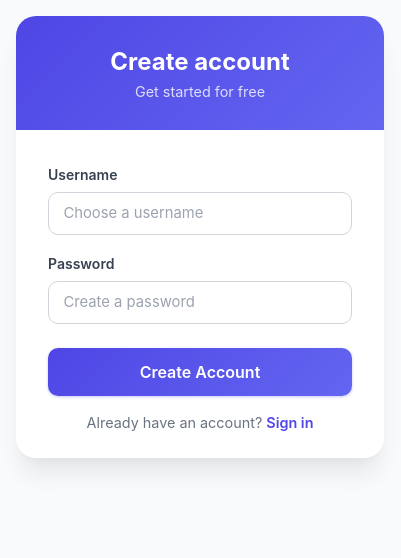
Test: SignupPage › shows error on failed signup
Type "existing" into the field labelled "Username". click: [200, 214]
box: [48,192,352,235]
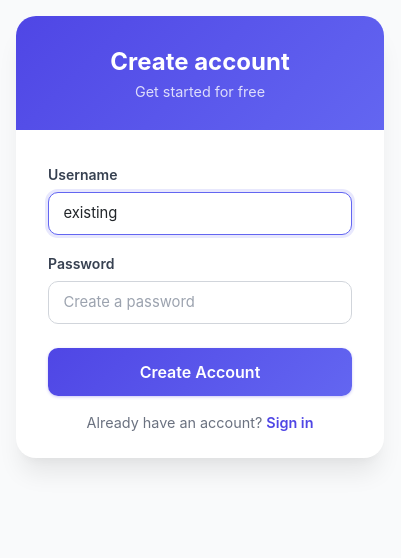
Type "pass" into the password field labelled "Password". click: [200, 302]
box: [48,281,352,324]
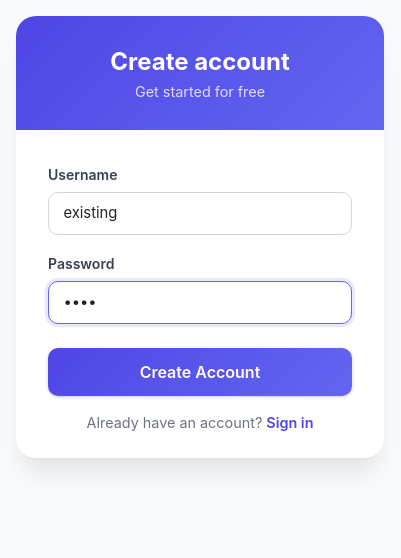
Click the button "Create Account". click: [200, 372]
box: [48,348,352,396]
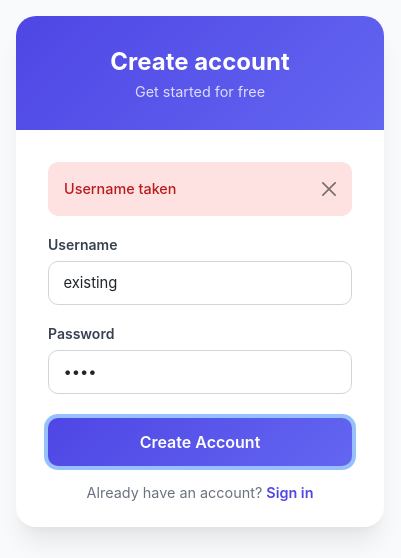
Now the text "Username taken" is shown, box [48,162,352,216]
